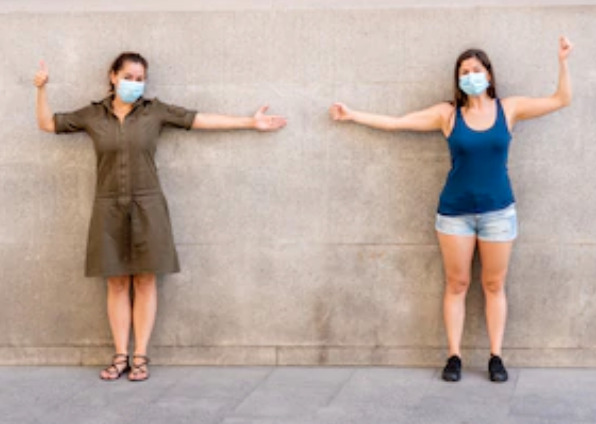Caution: (32, 34, 570, 384)
